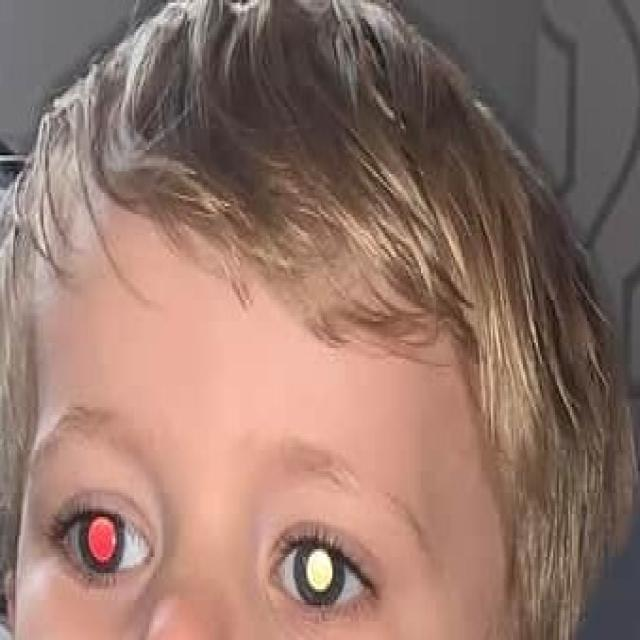reflexo-alterado: (258, 478, 386, 632)
reflexo-normal: (32, 459, 159, 612)
